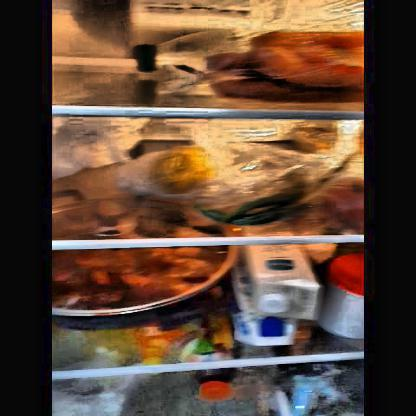broccoli: (277, 364, 367, 412)
carrot: (208, 35, 364, 98)
green_chillies: (194, 184, 310, 226)
lemon: (155, 146, 216, 192)
milk: (238, 249, 320, 344)
tomato: (322, 177, 364, 225)
